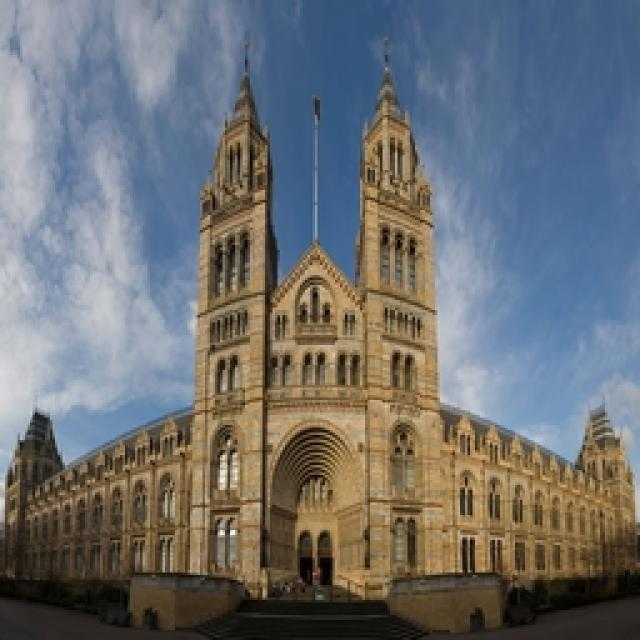Abbey: (169, 54, 442, 581)
